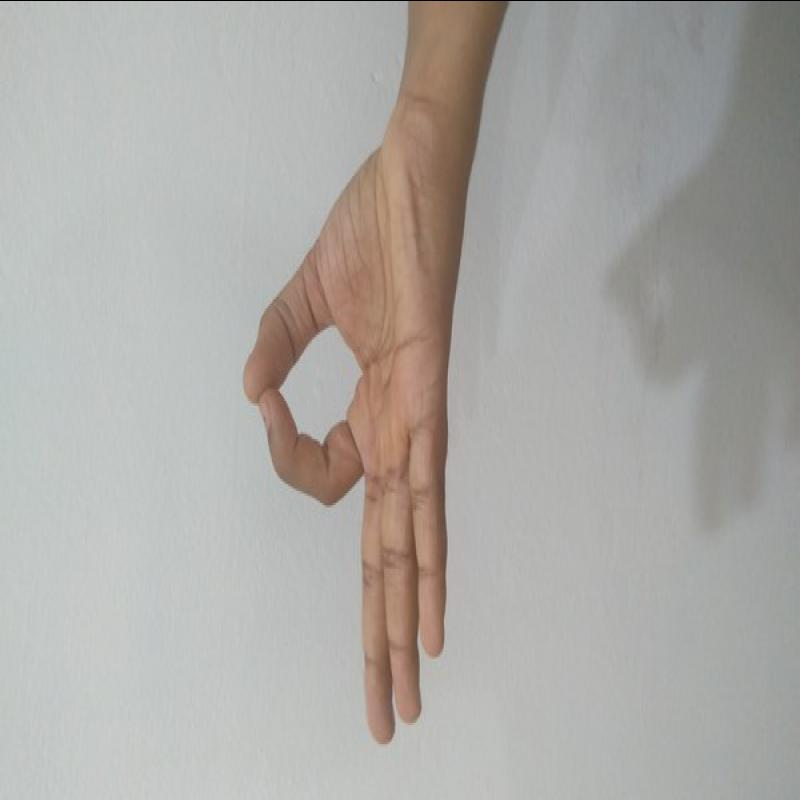Mudraakhyam: (226, 118, 496, 757)
